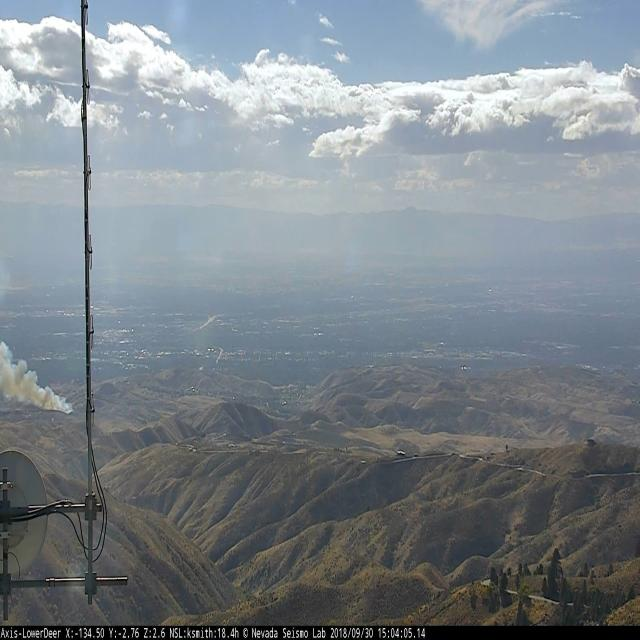smoke: (0, 339, 76, 414)
